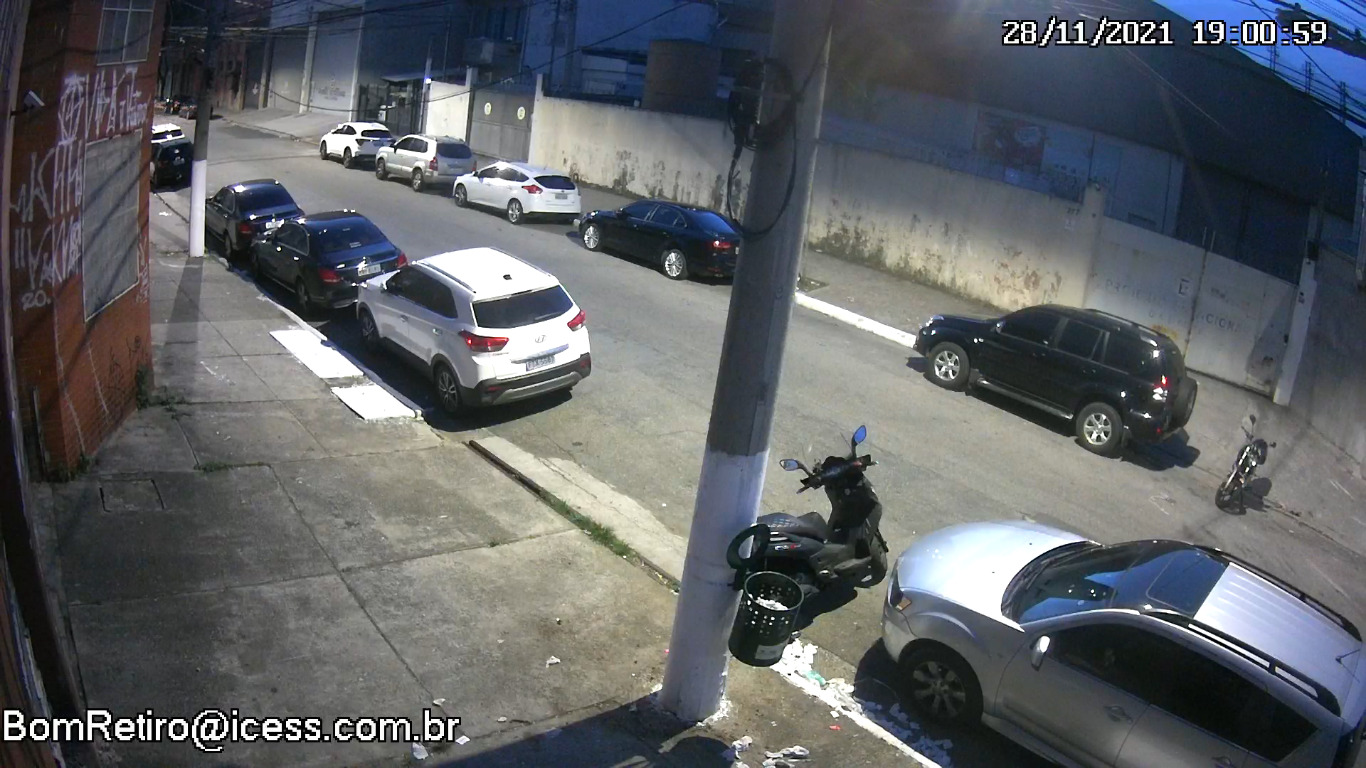car: (910, 302, 1201, 472), (352, 244, 592, 416), (244, 208, 415, 320), (578, 195, 756, 286), (197, 176, 312, 263), (450, 159, 585, 224), (372, 130, 479, 194), (318, 118, 400, 168)
motorcycle: (1215, 415, 1277, 508)
